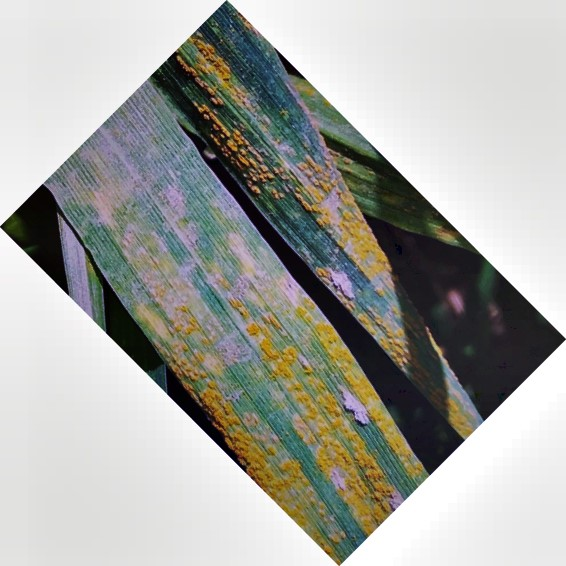Leaf Rust: (174, 30, 396, 298), (184, 316, 408, 528)
